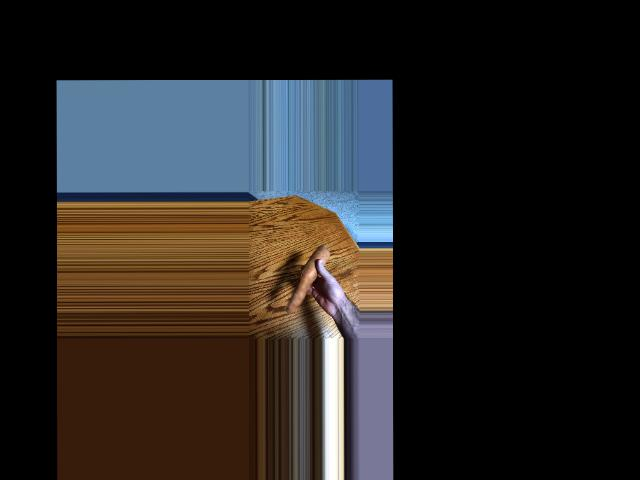sweet_potato: (291, 237, 327, 312)
